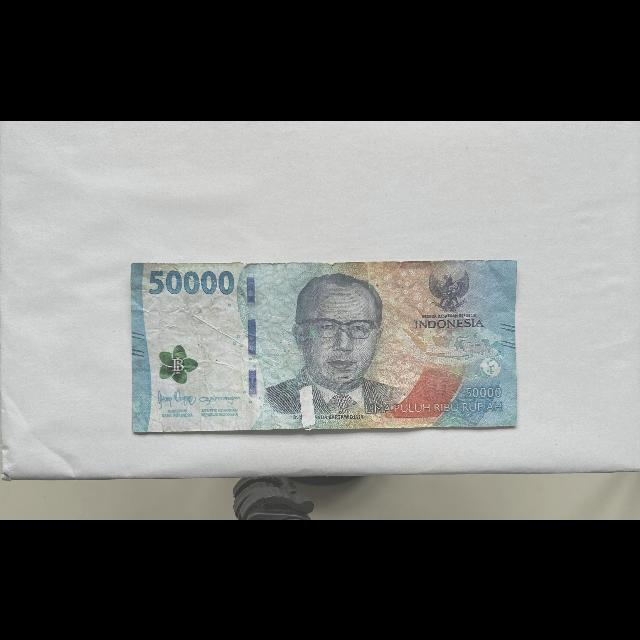Palsu-50k: (129, 258, 519, 434)
Tinta-Palsu-50k: (160, 344, 199, 384)
